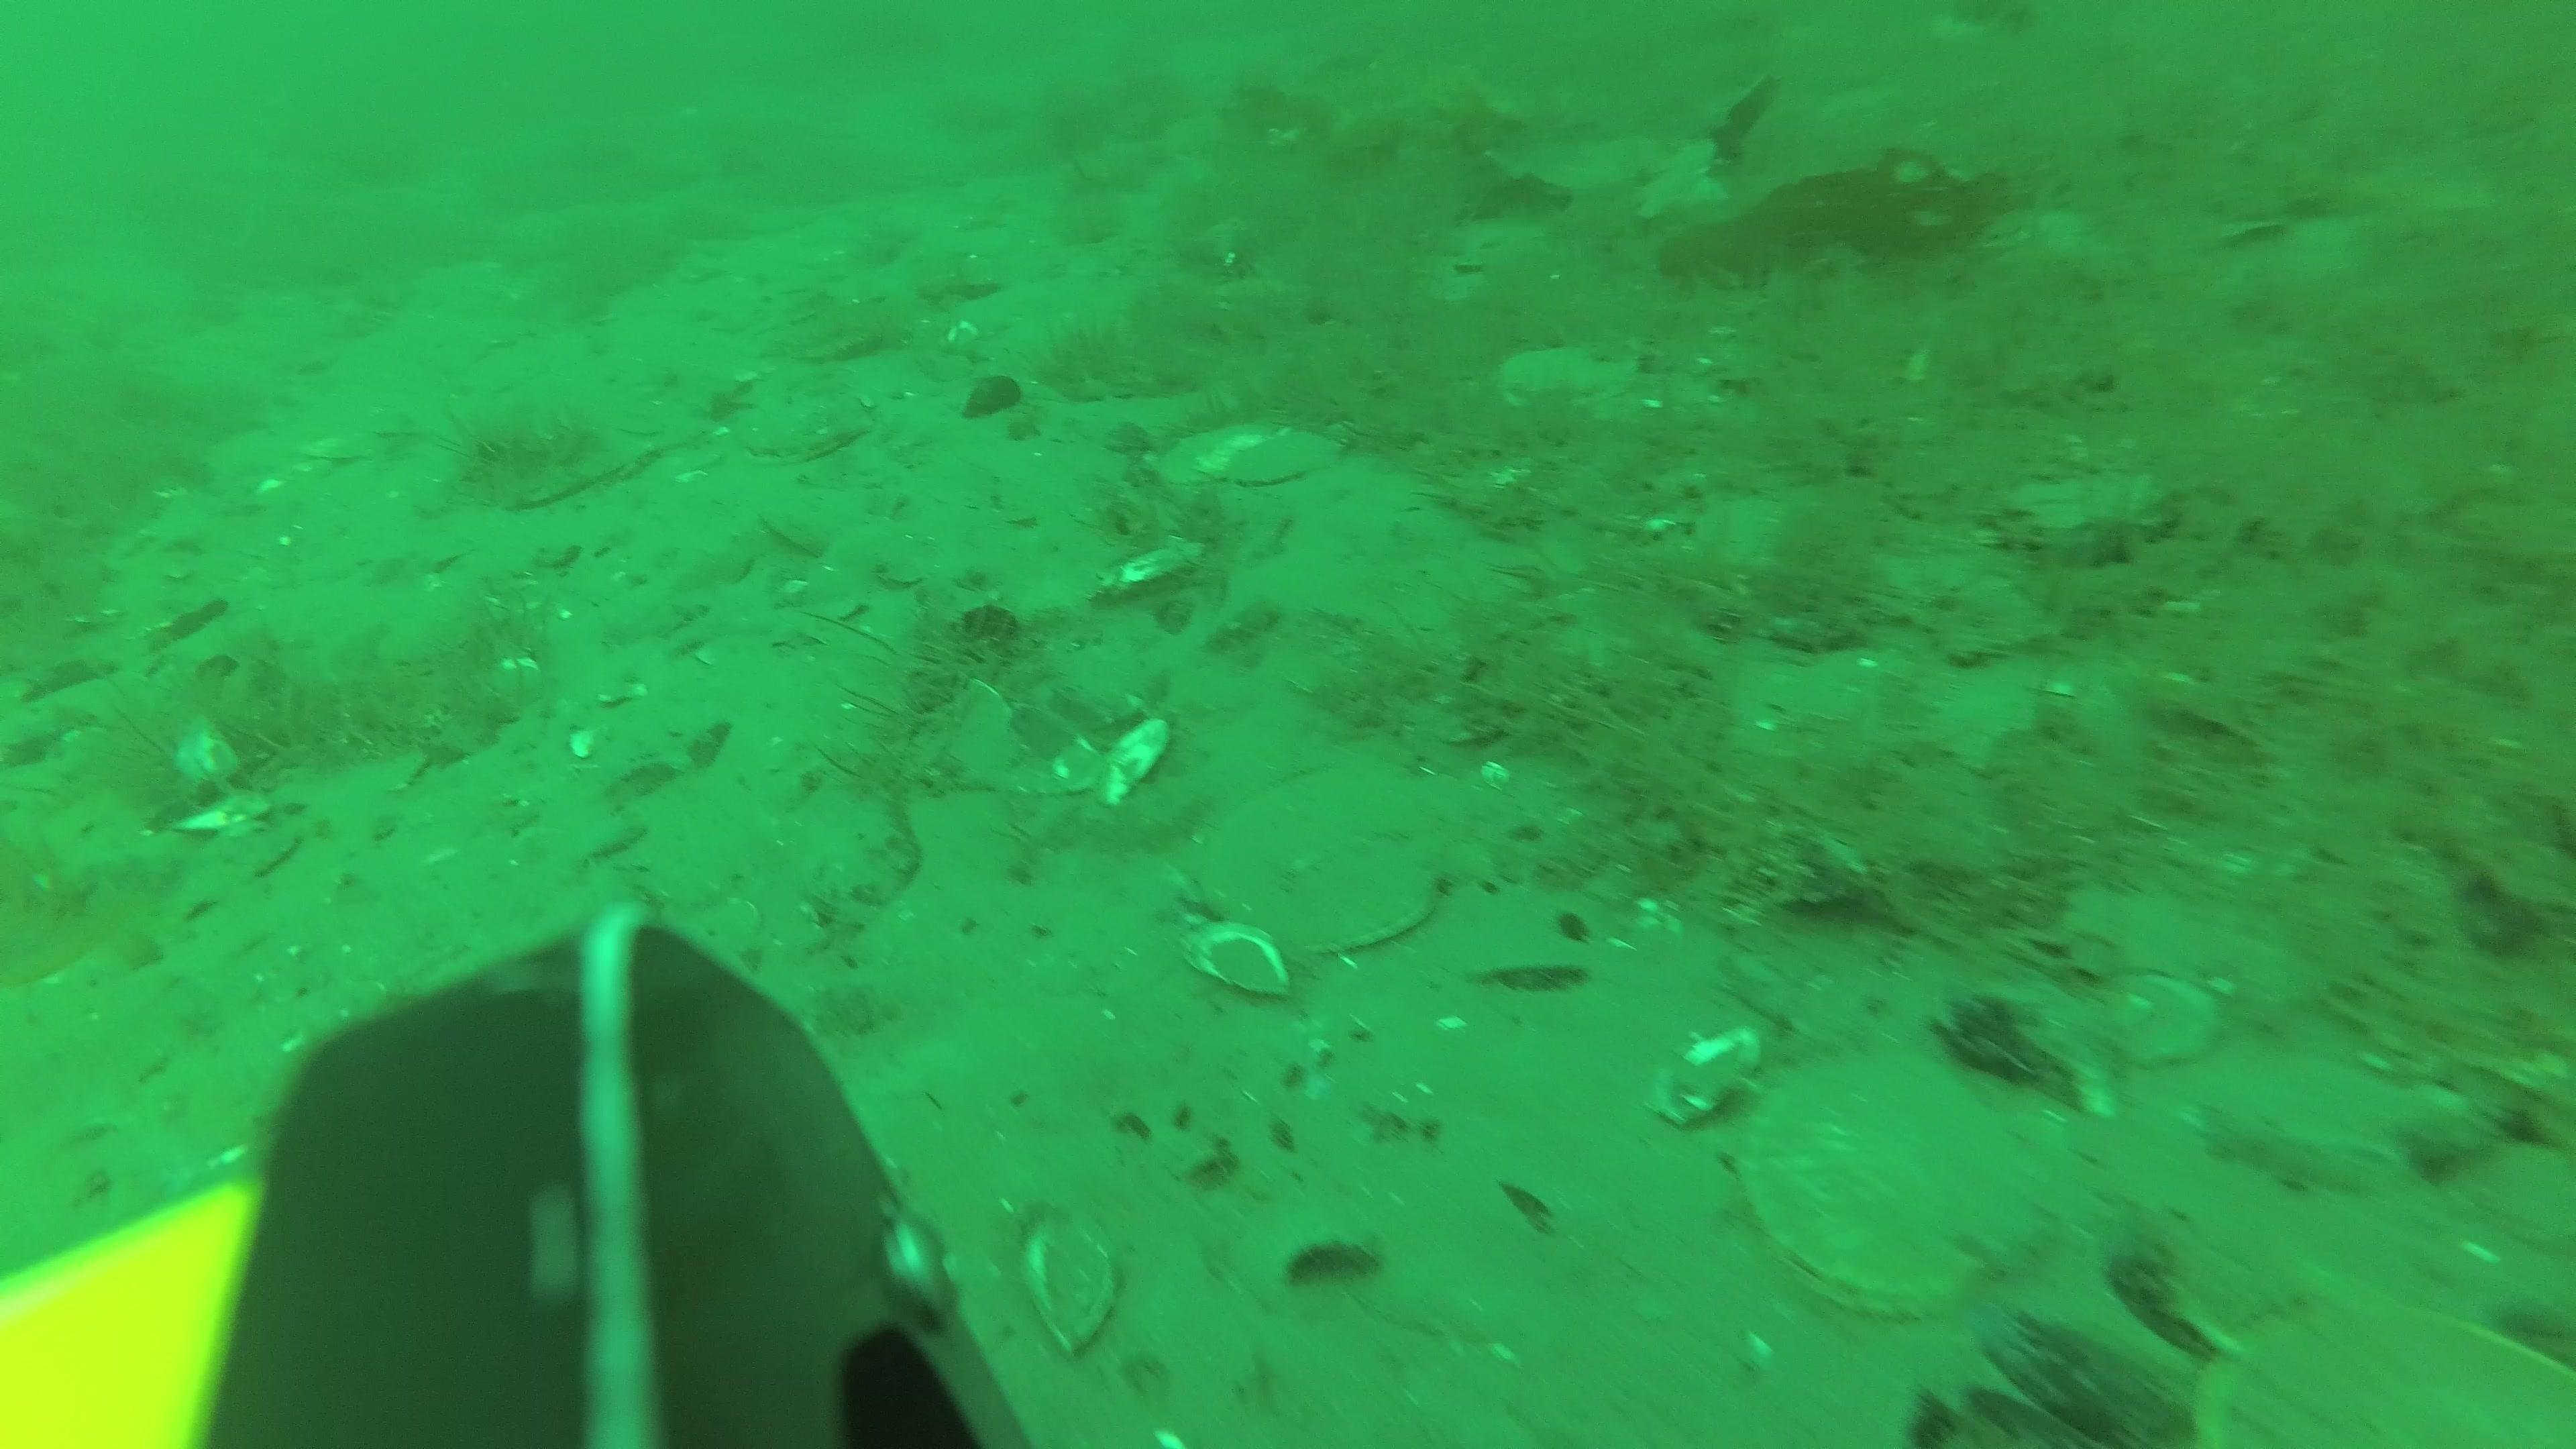scallop: (1744, 1053, 2049, 1323), (2190, 1297, 2576, 1449), (1192, 770, 1502, 955), (740, 395, 872, 465), (1497, 347, 1629, 414), (1164, 419, 1274, 474), (1237, 432, 1338, 487)
